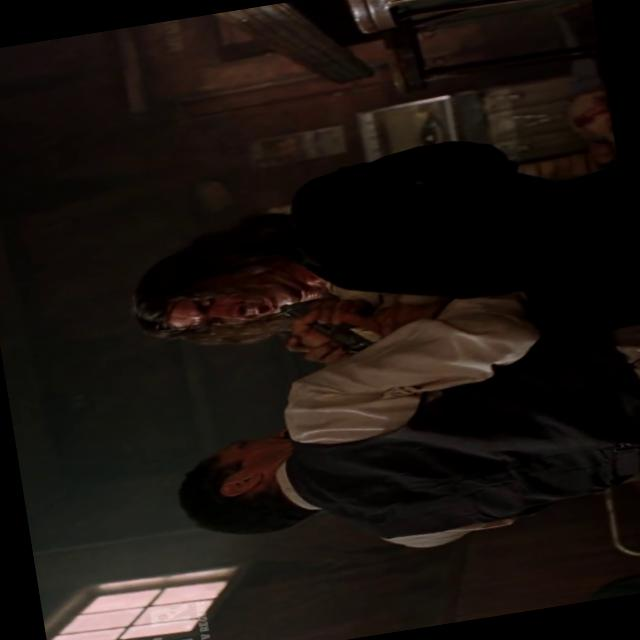handgun: (268, 274, 409, 371)
